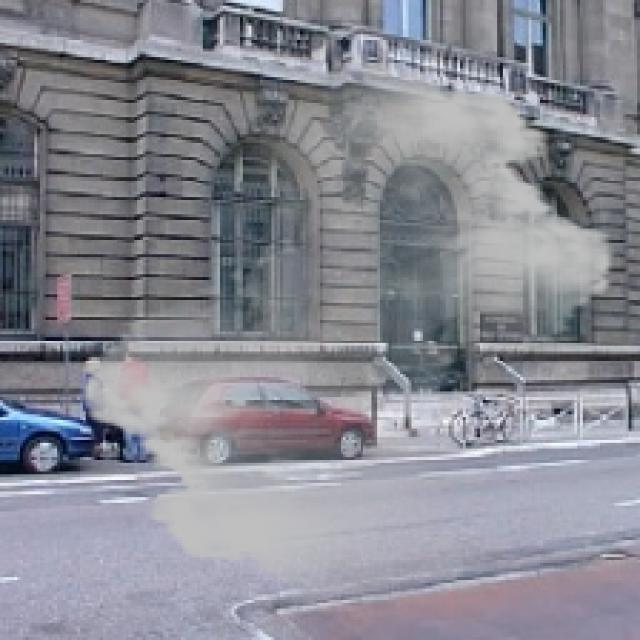Smoke: (63, 59, 632, 592)
